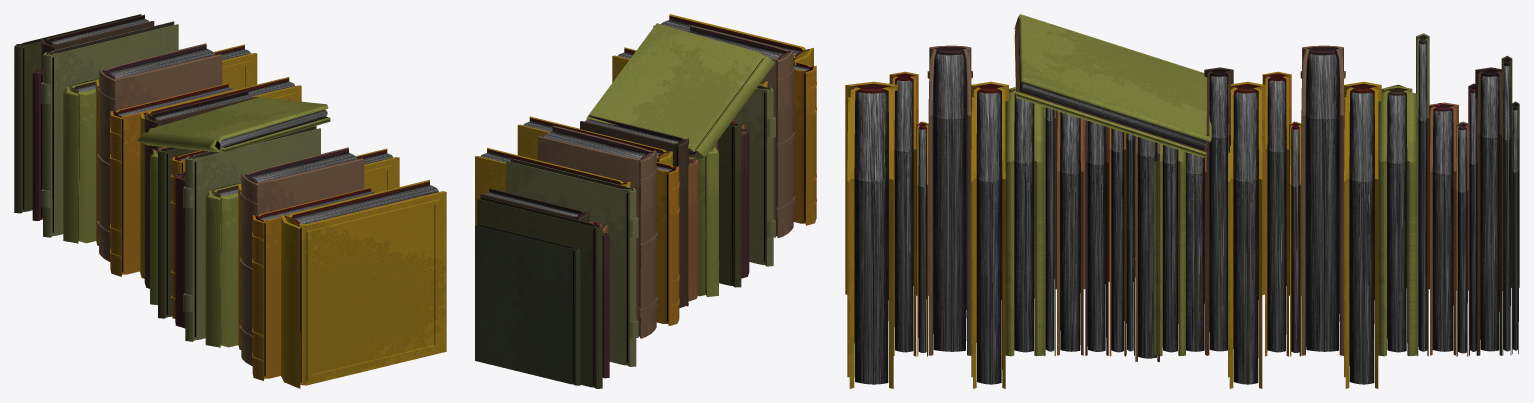
File: Shelf7.fbx
The picture shows the model from 3 angles, left to right: view 1: azimuth 30°, elevation 25°; view 2: azimuth 150°, elevation 25°; view 3: azimuth 270°, elevation 25°; orthographic projection. The views are drawn at different scales.
Visible parts, largest first — view 1: pCube12 (×4), pCube14 (×2), pCube71 (×2), pCube11 (×3), pCube15 (×3), pCube67 (×2), pCube118, pCube68 (×2), pCube69 (×2), pages13 (×2), pages14, pages11 (×2) (+3 smaller); view 2: pCube66, pCube118, pCube14 (×2), pCube71 (×2), pCube67 (×2), pCube15 (×2), pCube12 (×4), pCube68 (×2), pCube11, pCube69 (×2), pCube72, pages13 (×2) (+4 smaller); view 3: pages14 (×4), pages13 (×3), pCube12 (×4), pCube118, pCube11 (×3), pages17 (×3), pages15 (×3), pages11 (×3), pages8 (×2), pCube71 (×3), pages9 (×2), pCube72 (×3) (+14 smaller).
Part boxes in pixels (x1=…): pCube12 (×4): x1=95, y1=44, x2=446, y2=388; pCube14 (×2): x1=41, y1=21, x2=320, y2=341; pCube71 (×2): x1=96, y1=43, x2=364, y2=366; pCube11 (×3): x1=63, y1=78, x2=241, y2=347; pCube15 (×3): x1=110, y1=83, x2=371, y2=380; pCube67 (×2): x1=14, y1=14, x2=199, y2=318; pCube118: x1=137, y1=97, x2=330, y2=152; pCube68 (×2): x1=41, y1=14, x2=257, y2=288; pCube69 (×2): x1=32, y1=69, x2=185, y2=328; pages13 (×2): x1=110, y1=48, x2=357, y2=181; pages14: x1=293, y1=184, x2=438, y2=382; pages11 (×2): x1=114, y1=87, x2=374, y2=375; pCube66: x1=475, y1=224, x2=580, y2=385; pCube118: x1=586, y1=23, x2=775, y2=159; pCube14 (×2): x1=506, y1=85, x2=775, y2=366; pCube71 (×2): x1=537, y1=25, x2=795, y2=338; pCube67 (×2): x1=477, y1=122, x2=741, y2=388; pCube15 (×2): x1=656, y1=61, x2=816, y2=325; pCube12 (×4): x1=475, y1=14, x2=813, y2=225; pCube68 (×2): x1=480, y1=115, x2=688, y2=308; pCube11: x1=689, y1=147, x2=718, y2=296; pCube69 (×2): x1=602, y1=128, x2=749, y2=378; pCube72: x1=688, y1=159, x2=698, y2=301; pages13 (×2): x1=543, y1=30, x2=783, y2=158; pages14 (×4): x1=855, y1=92, x2=1374, y2=384; pages13 (×3): x1=933, y1=54, x2=1338, y2=358; pCube12 (×4): x1=845, y1=81, x2=1381, y2=388; pCube118: x1=1014, y1=14, x2=1211, y2=157; pCube11 (×3): x1=1005, y1=84, x2=1417, y2=356; pages17 (×3): x1=1060, y1=110, x2=1453, y2=351; pages15 (×3): x1=1014, y1=95, x2=1406, y2=352; pages11 (×3): x1=895, y1=80, x2=1285, y2=352; pages8 (×2): x1=1209, y1=76, x2=1499, y2=351; pCube71 (×3): x1=927, y1=45, x2=1345, y2=361; pages9 (×2): x1=1088, y1=92, x2=1476, y2=351; pCube72 (×3): x1=1055, y1=102, x2=1458, y2=355.
Size of the model in its own units: 1.09 by 1.23 by 2.6.
